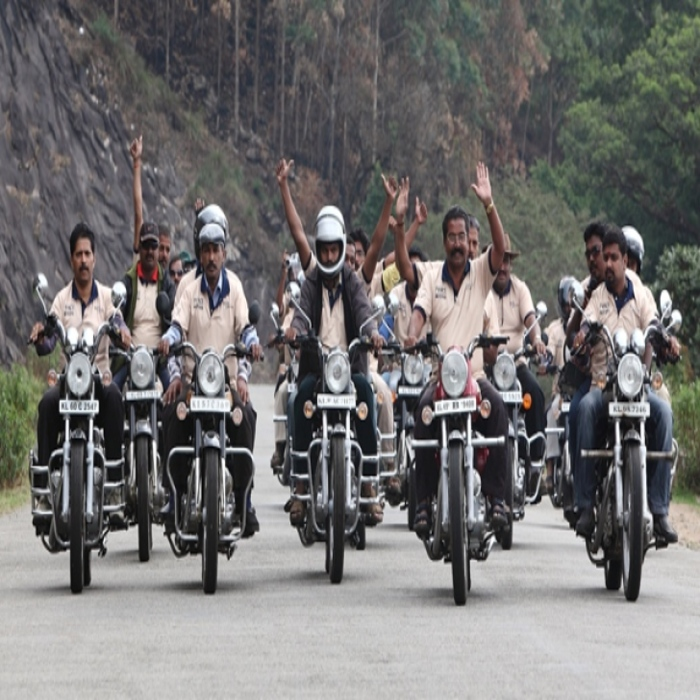h: (313, 204, 349, 282), (192, 201, 229, 251)
n: (55, 396, 101, 416), (606, 399, 652, 419), (188, 394, 231, 414), (315, 391, 356, 411), (433, 397, 478, 414), (124, 388, 158, 402), (499, 389, 525, 404)
